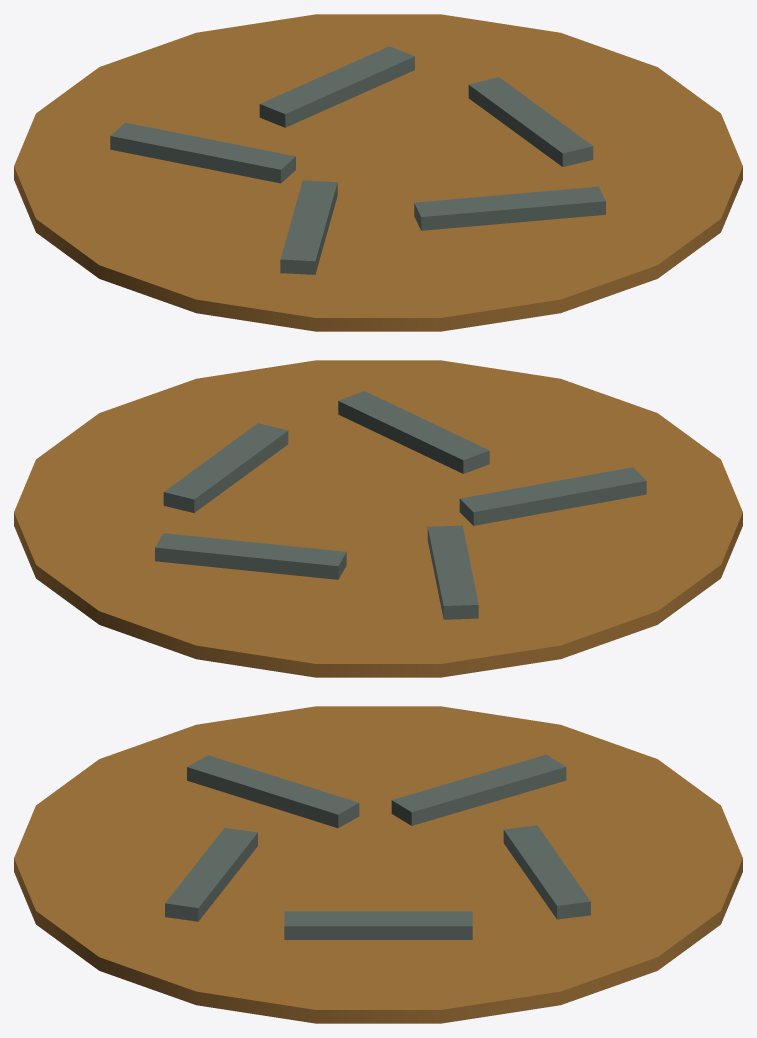
File: ground-decal.glb
3 views of the same model, one above another, from view 1: azimuth 30°, elevation 25°; view 2: azimuth 150°, elevation 25°; view 3: azimuth 270°, elevation 25° (orthographic).
Parts seen in each view (by area): view 1: decal_plate, rune_1, rune_3, rune_4, rune_0, rune_2; view 2: decal_plate, rune_4, rune_2, rune_1, rune_0, rune_3; view 3: decal_plate, rune_0, rune_3, rune_2, rune_1, rune_4.
Boxes of the visible parts, x1=… form: decal_plate: x1=14, y1=14, x2=742, y2=331; rune_1: x1=414, y1=186, x2=605, y2=230; rune_3: x1=110, y1=122, x2=295, y2=183; rune_4: x1=259, y1=46, x2=414, y2=127; rune_0: x1=468, y1=77, x2=593, y2=166; rune_2: x1=280, y1=180, x2=337, y2=274; decal_plate: x1=14, y1=360, x2=742, y2=677; rune_4: x1=155, y1=533, x2=346, y2=579; rune_2: x1=459, y1=467, x2=646, y2=525; rune_1: x1=338, y1=391, x2=489, y2=473; rune_0: x1=163, y1=423, x2=288, y2=512; rune_3: x1=427, y1=525, x2=478, y2=619; decal_plate: x1=14, y1=706, x2=742, y2=1023; rune_0: x1=284, y1=911, x2=472, y2=939; rune_3: x1=391, y1=754, x2=566, y2=825; rune_2: x1=187, y1=755, x2=359, y2=828; rune_1: x1=165, y1=828, x2=257, y2=921; rune_4: x1=503, y1=825, x2=590, y2=919.
Size of what is drawn, in the model's own units: 2.86 by 0.12 by 2.9.
